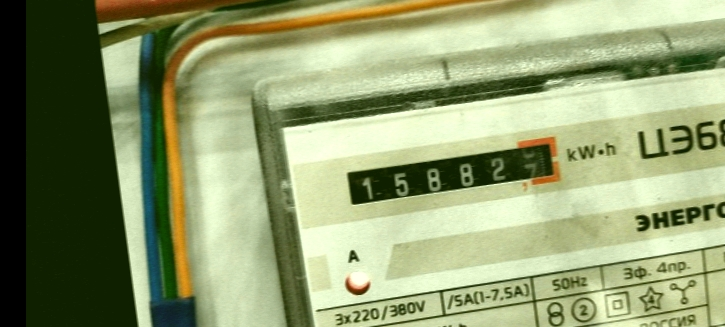1: (359, 174, 376, 203)
2: (488, 155, 508, 185)
5: (390, 170, 412, 199)
7: (521, 161, 539, 180)
8: (423, 166, 443, 196), (457, 161, 475, 190)
screen: (331, 128, 572, 221)
